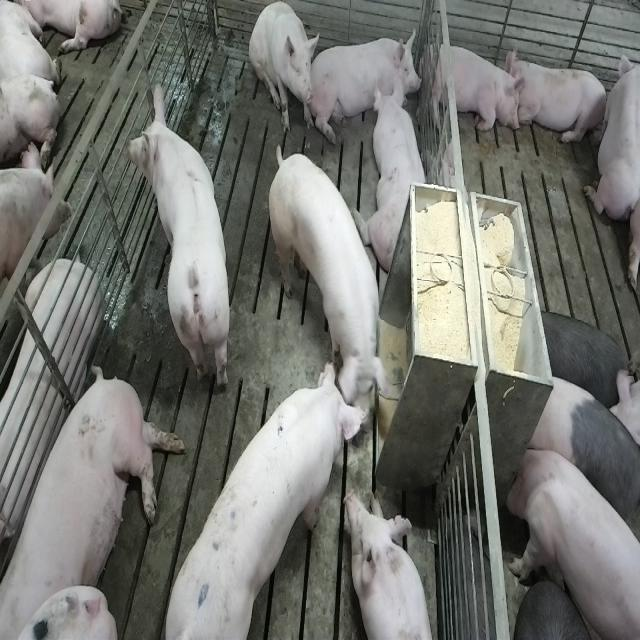Lateral_lying: (4, 362, 188, 636), (0, 257, 103, 548)
Sitting: (249, 3, 319, 136)
Standing: (158, 355, 371, 635), (266, 142, 401, 418), (124, 81, 230, 397), (504, 442, 638, 640), (525, 369, 639, 551), (0, 144, 69, 346), (534, 308, 626, 414)
Sternal_lying: (348, 488, 438, 640), (366, 83, 430, 273), (312, 28, 420, 134), (426, 38, 524, 138), (584, 42, 637, 224), (510, 52, 609, 149)
